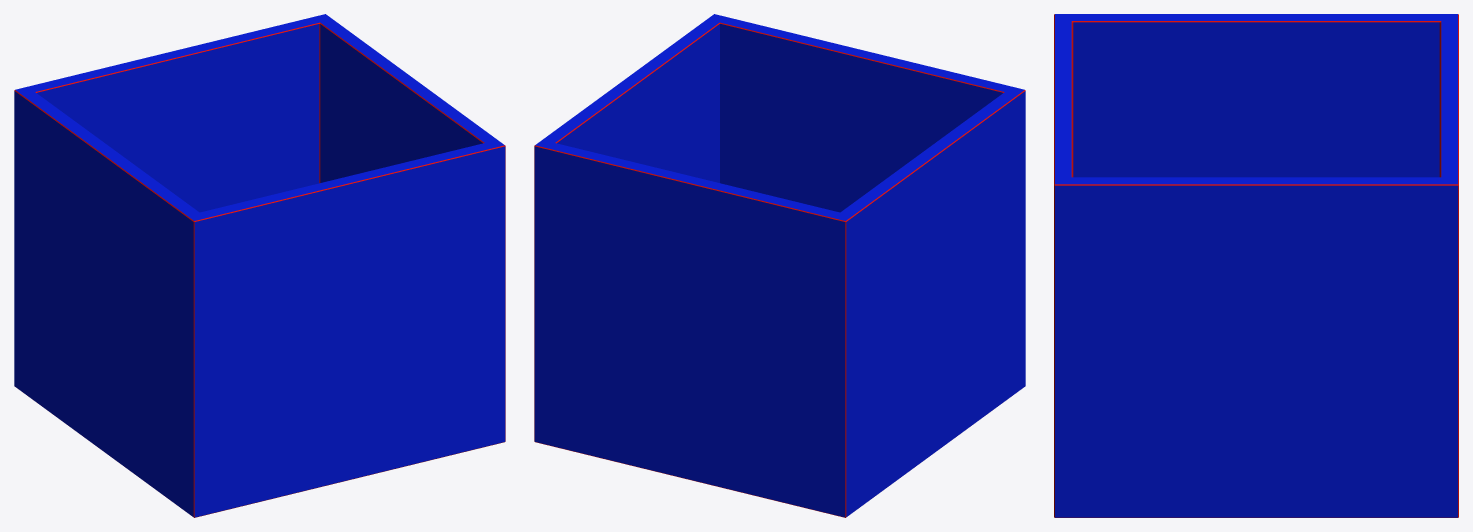
Rendered from L9_OuterCube_Wall.fbx.
The picture shows the model from 3 angles, left to right: view 1: azimuth 30°, elevation 25°; view 2: azimuth 150°, elevation 25°; view 3: azimuth 270°, elevation 25°; orthographic projection. The views are drawn at different scales.
Parts seen in each view (by area): view 1: L9_OuterCube_Wall; view 2: L9_OuterCube_Wall; view 3: L9_OuterCube_Wall.
Part boxes in pixels (box(x1,y1,x2,y2)): L9_OuterCube_Wall: box(14, 14, 505, 517); L9_OuterCube_Wall: box(534, 14, 1025, 517); L9_OuterCube_Wall: box(1054, 14, 1458, 517).
Size of the model in its own units: 2200 by 2000 by 2200.
